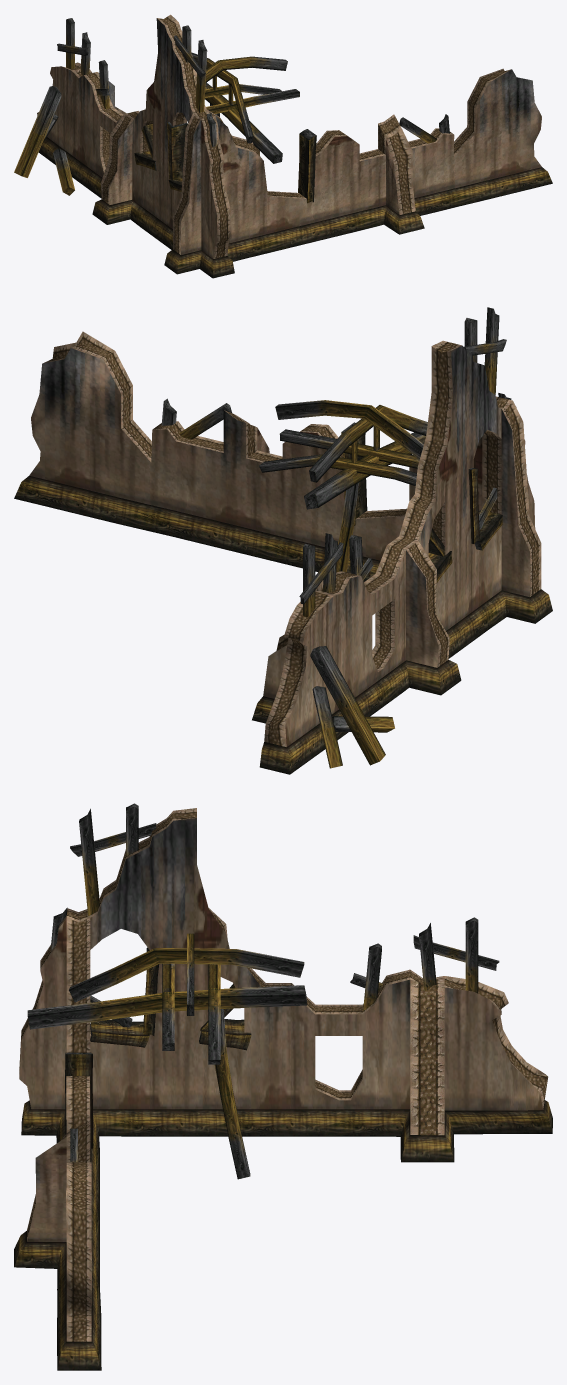
Rendered from CB_BRKN_BUILDING05.fbx.
3 renders of one model, top to bottom at view 1: azimuth 30°, elevation 25°; view 2: azimuth 150°, elevation 25°; view 3: azimuth 270°, elevation 25°, orthographic. The views are drawn at different scales.
Parts seen in each view (by area): view 1: CB_BRKN_BUILDING05; view 2: CB_BRKN_BUILDING05; view 3: CB_BRKN_BUILDING05.
Boxes of the visible parts, bbox=[...] form: CB_BRKN_BUILDING05: bbox=[14, 14, 552, 278]; CB_BRKN_BUILDING05: bbox=[14, 307, 552, 774]; CB_BRKN_BUILDING05: bbox=[14, 803, 552, 1370].
Size of the model in its own units: 346062 by 190961 by 280942.
5 materials, 5 textured.
